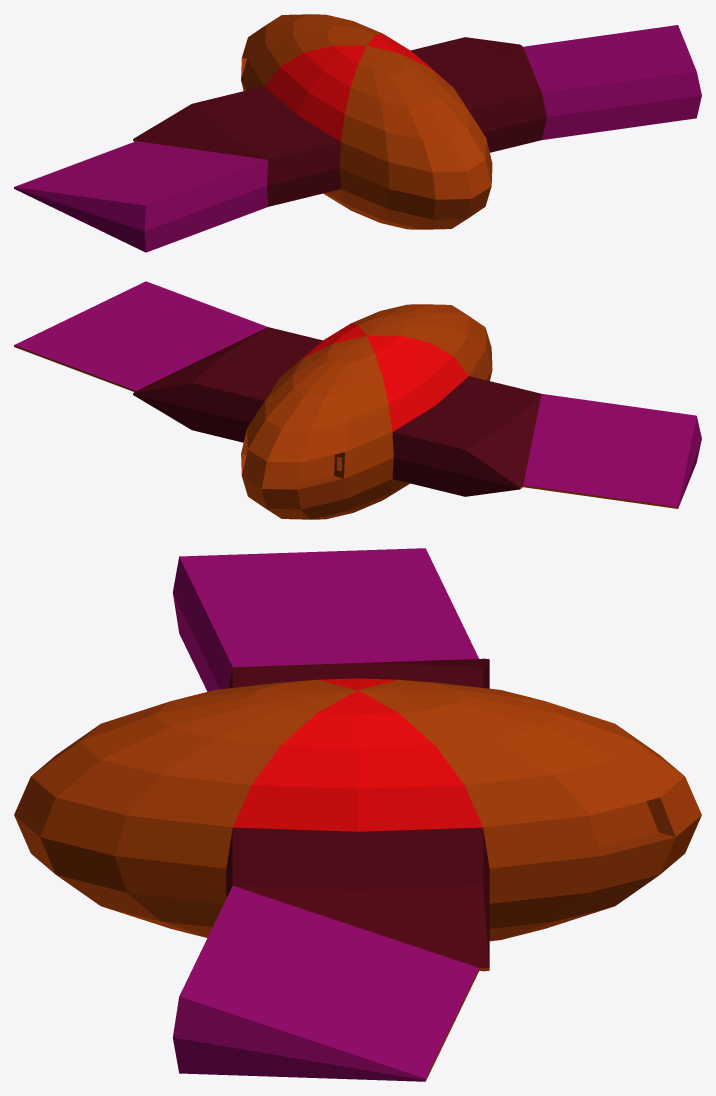
Rendered from Enemy2.fbx.
3 renders of one model, top to bottom at view 1: azimuth 30°, elevation 25°; view 2: azimuth 150°, elevation 25°; view 3: azimuth 270°, elevation 25°, orthographic. The views are drawn at different scales.
Parts seen in each view (by area): view 1: Sphere; view 2: Sphere; view 3: Sphere.
Boxes of the visible parts, x1,y1,x2,y2 form: Sphere: (14,14,701,252); Sphere: (14,281,701,519); Sphere: (14,548,701,1081).
Size of the model in its own units: 913 by 200 by 500.
